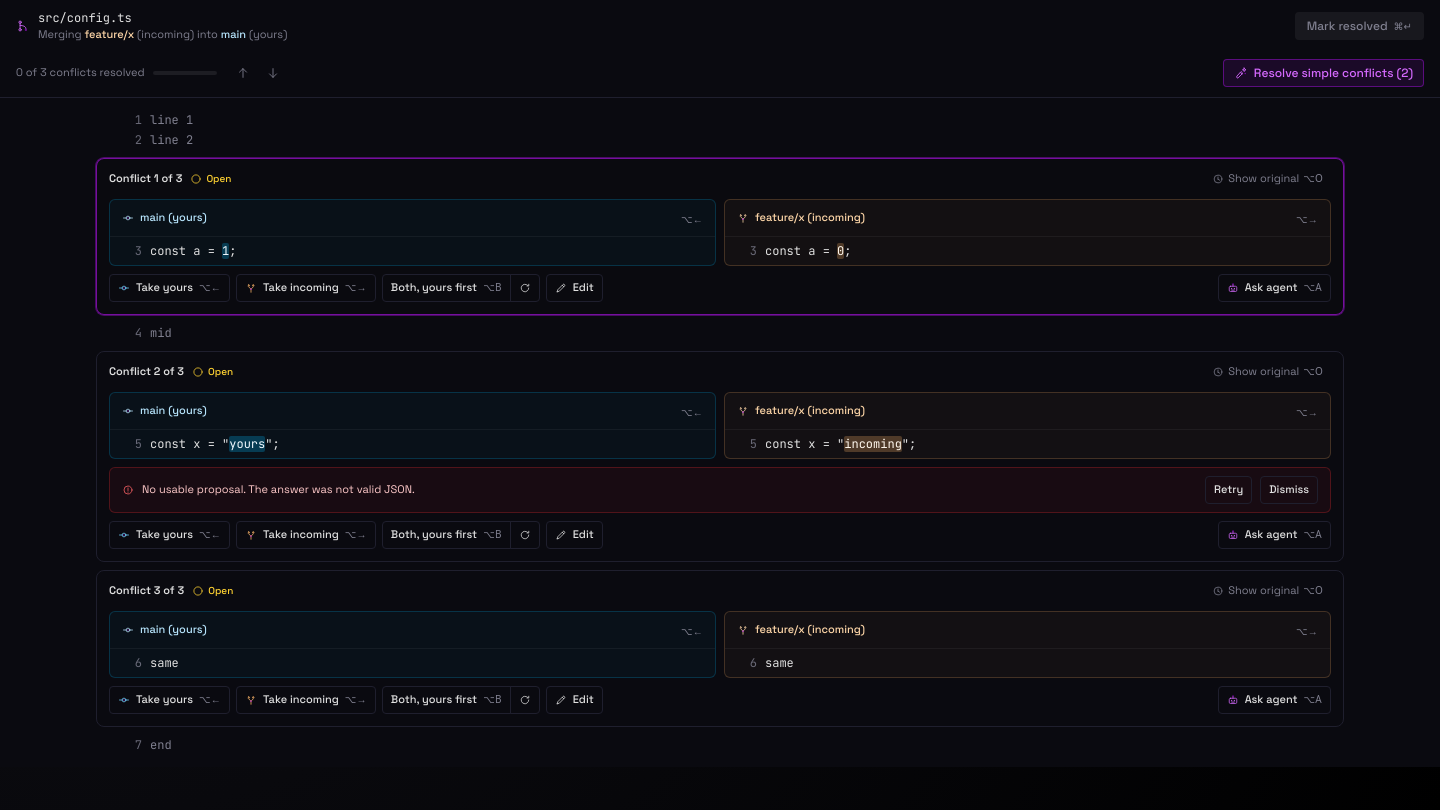
Test case: MergeView › hides a dismissed proposal without touching the resolution
expect the element with test id "proposal-error" shows "not valid JSON": met, box [248,482,415,496]
Click the button "Retry": {"x": 1229, "y": 490} [1205,476,1252,504]
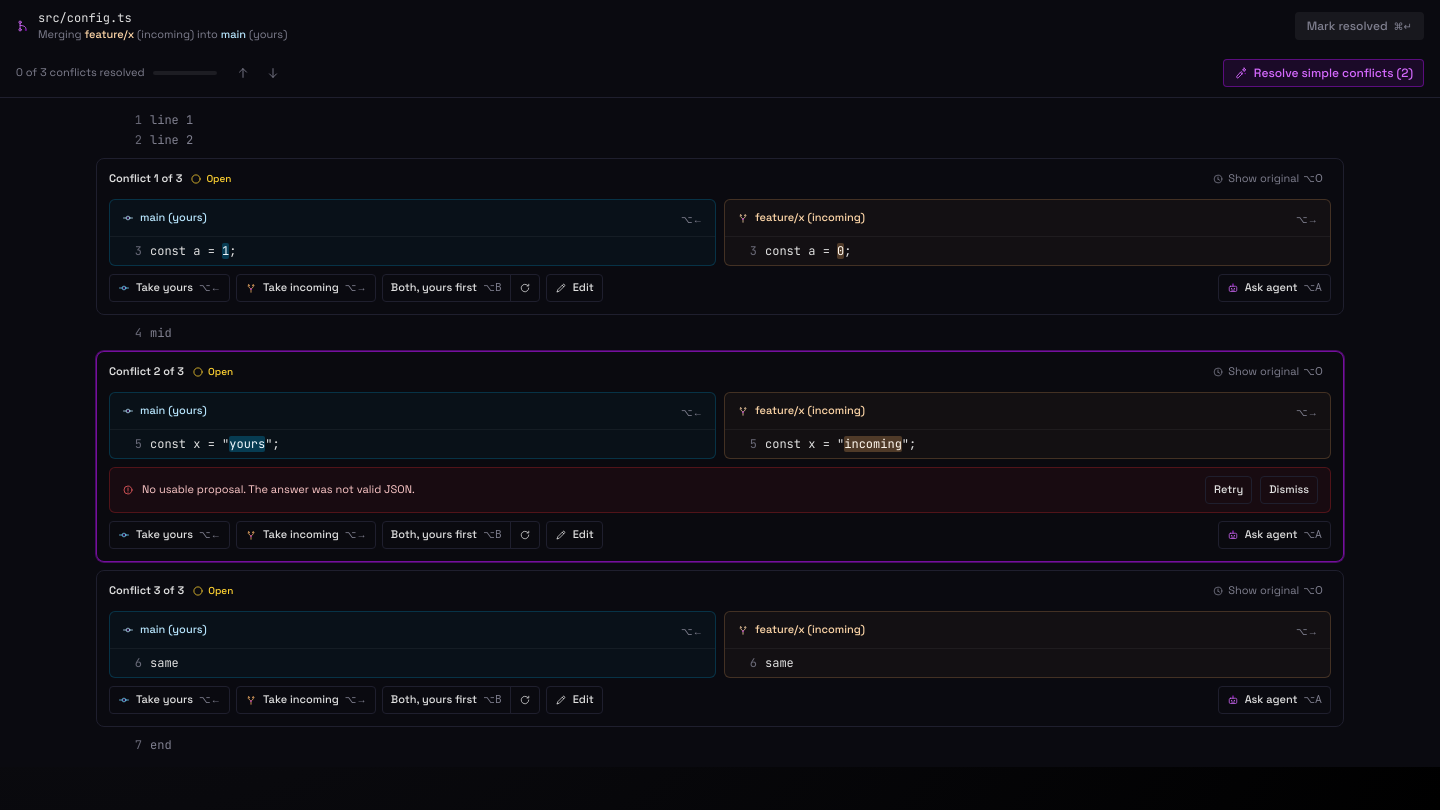
Click the button "Dismiss": {"x": 1289, "y": 490} [1260,476,1318,504]
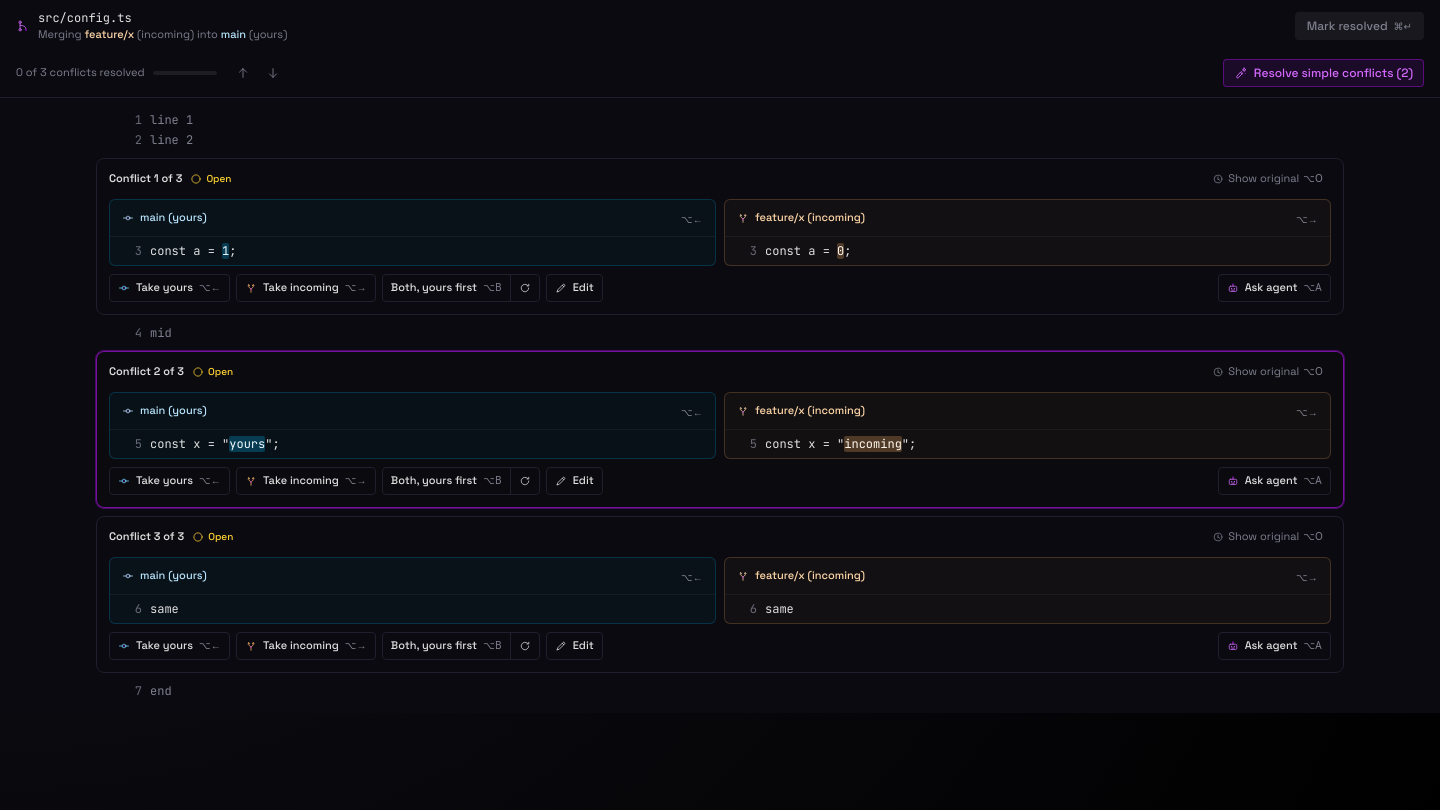
expect the element with test id "proposal-error" is gone: met
